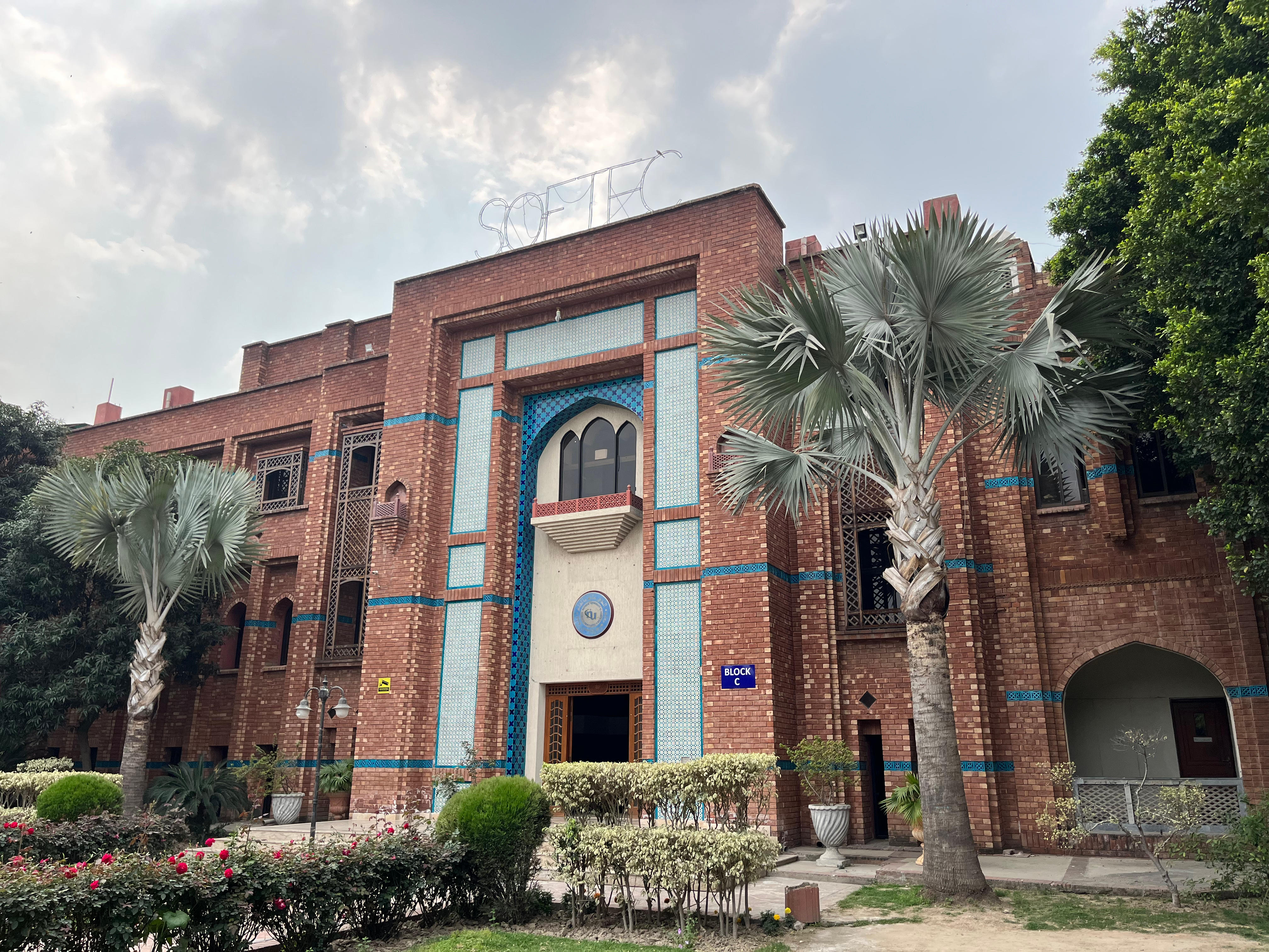Block C: (8, 143, 1269, 874)
